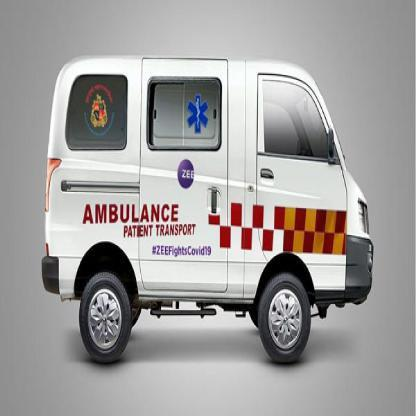Ambulance - v1 Ambulance last generate: (45, 56, 375, 369)
